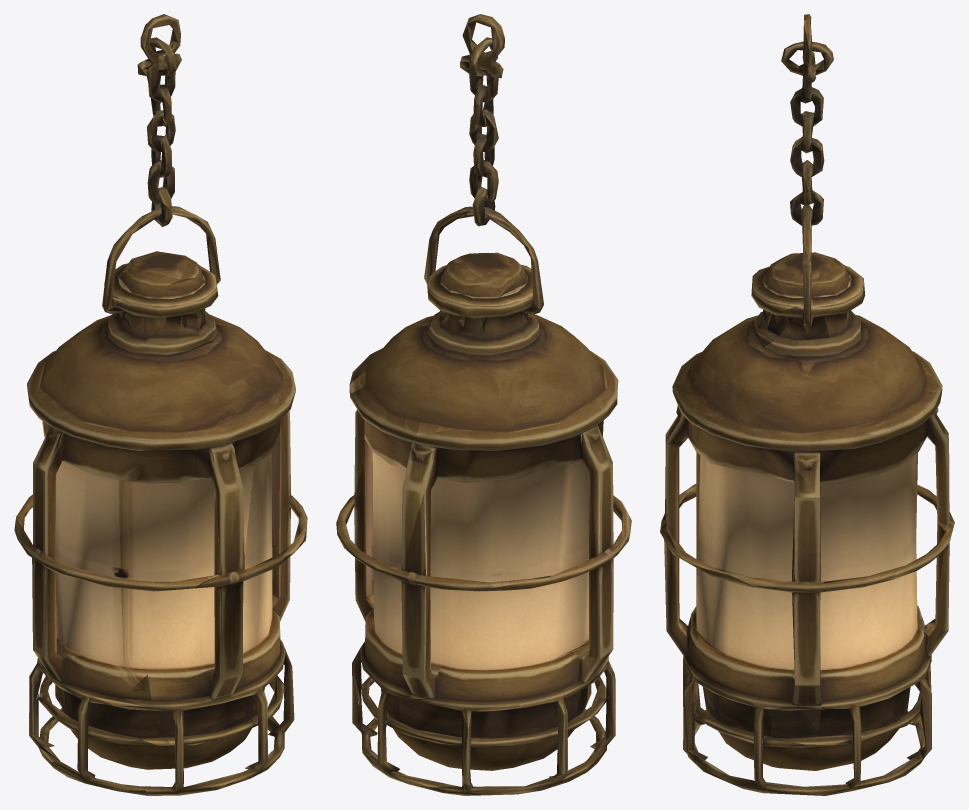
File: Decor_HangingLamp.fbx
3 views of the same model, side by side, from view 1: azimuth 30°, elevation 25°; view 2: azimuth 150°, elevation 25°; view 3: azimuth 270°, elevation 25° (orthographic).
Visible parts, largest first — view 1: Mesh_0; view 2: Mesh_0; view 3: Mesh_0.
Boxes of the visible parts, x1,y1,x2,y2 form: Mesh_0: (14, 14, 307, 795); Mesh_0: (336, 14, 631, 795); Mesh_0: (660, 14, 954, 795).
Size of the model in its own units: 69.31 by 189 by 69.32.
1 material, 1 textured.
